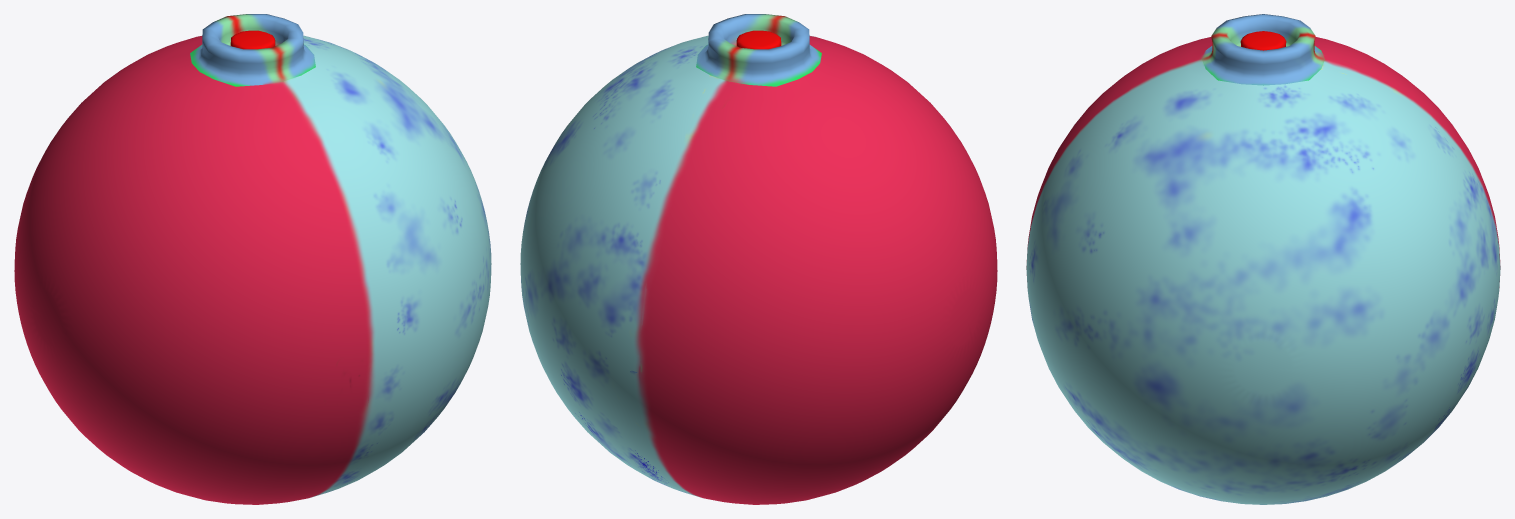
File: Ball.fbx
3 renders of one model, left to right at view 1: azimuth 30°, elevation 25°; view 2: azimuth 150°, elevation 25°; view 3: azimuth 270°, elevation 25°, orthographic.
Visible parts, largest first — view 1: Sphere.002; view 2: Sphere.002; view 3: Sphere.002.
Part boxes in pixels (bbox=[...]): Sphere.002: bbox=[14, 14, 491, 504]; Sphere.002: bbox=[520, 14, 997, 504]; Sphere.002: bbox=[1026, 14, 1500, 504].
Size of the model in its own units: 2 by 2.06 by 1.97.
